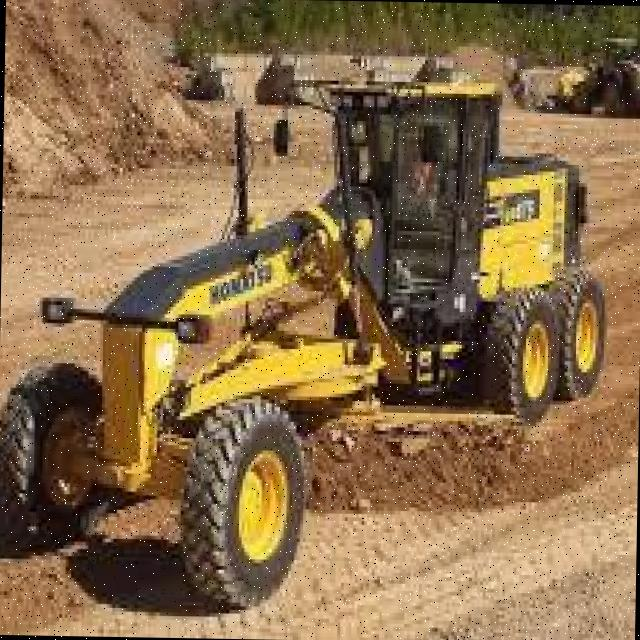Grader: (0, 49, 636, 598)
